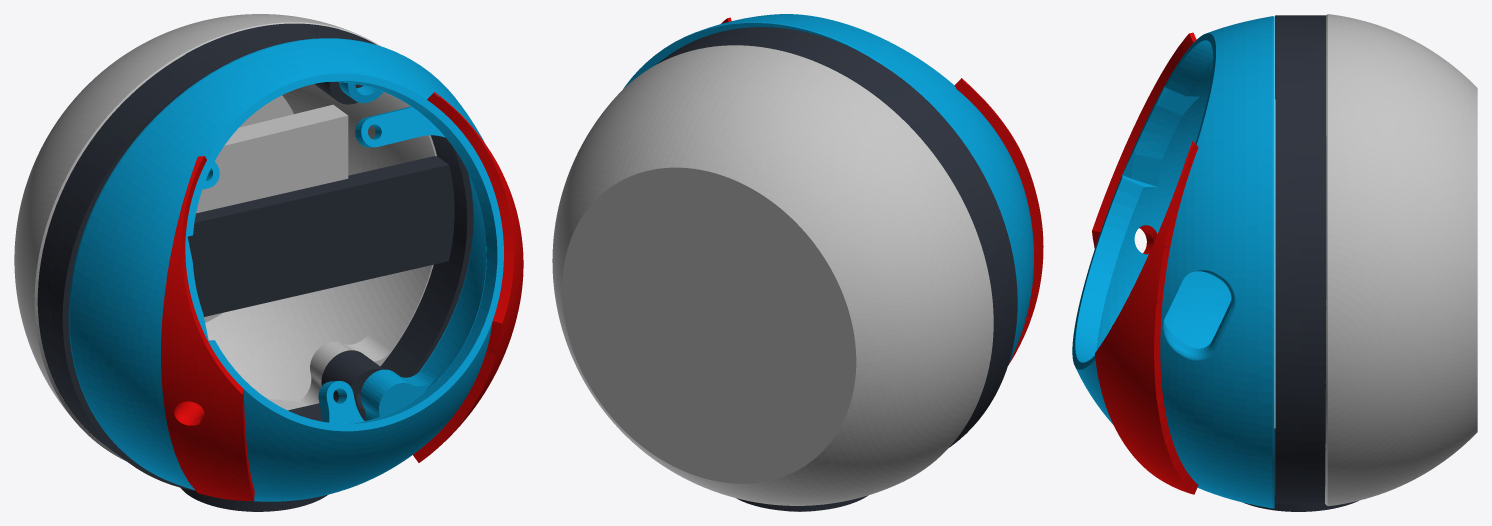
The model's file is poketama-great-battery.glb.
3 views of the same model, side by side, from view 1: azimuth 30°, elevation 25°; view 2: azimuth 150°, elevation 25°; view 3: azimuth 270°, elevation 25° (orthographic).
Bounding box in the file's own units: 1.96 × 2 × 1.58.
